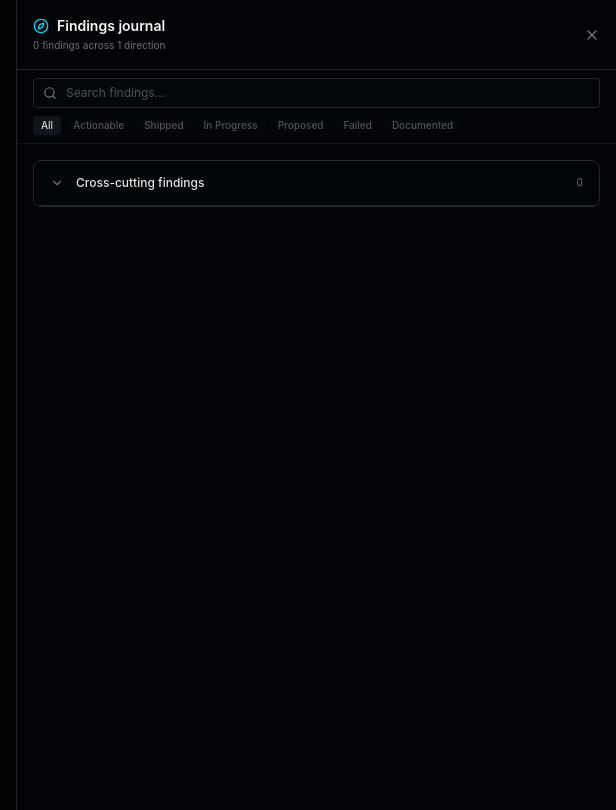
Test: ResearchBrowser findings_documented filter › shows direction_note and direction_proposal findings under Documented filter
The image size is (616, 810).
Click the button "Documented". click: [422, 126]
box: [384, 116, 461, 135]
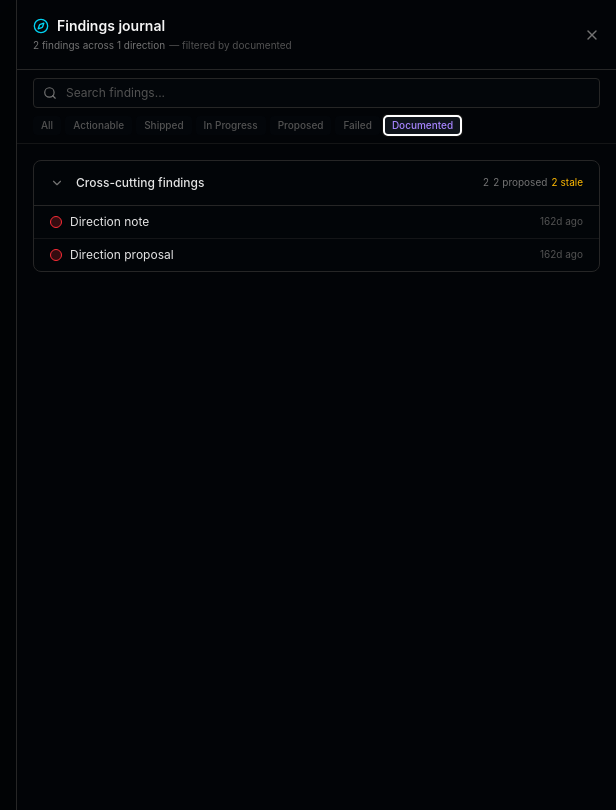
Expected: the text "Direction note" is shown, [70, 214, 149, 228]
Expected: the text "Direction proposal" is shown, [70, 246, 174, 262]
